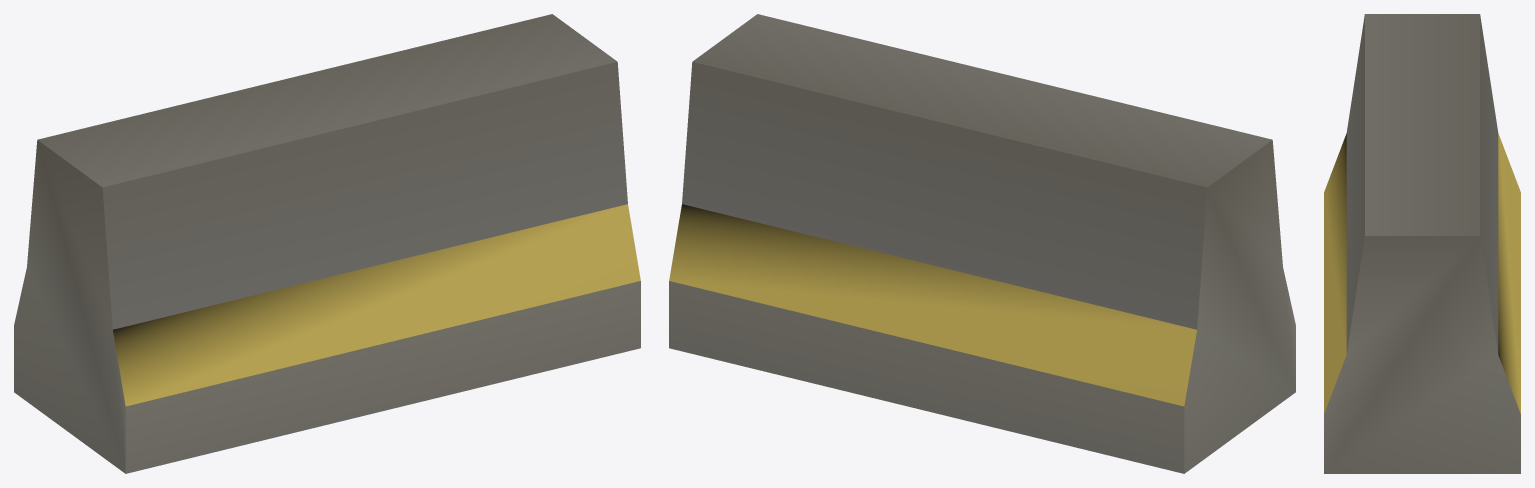
File: detail-barrier-strong-type-b.glb
3 views of the same model, side by side, from view 1: azimuth 30°, elevation 25°; view 2: azimuth 150°, elevation 25°; view 3: azimuth 270°, elevation 25° (orthographic). The views are drawn at different scales.
Parts seen in each view (by area): view 1: detail-barrier-strong-type-b; view 2: detail-barrier-strong-type-b; view 3: detail-barrier-strong-type-b.
Boxes of the visible parts, x1,y1,x2,y2 form: detail-barrier-strong-type-b: (14,14,640,473); detail-barrier-strong-type-b: (669,14,1295,473); detail-barrier-strong-type-b: (1324,14,1520,473).
Bounding box in the file's own units: 0.664 × 0.332 × 0.249.
